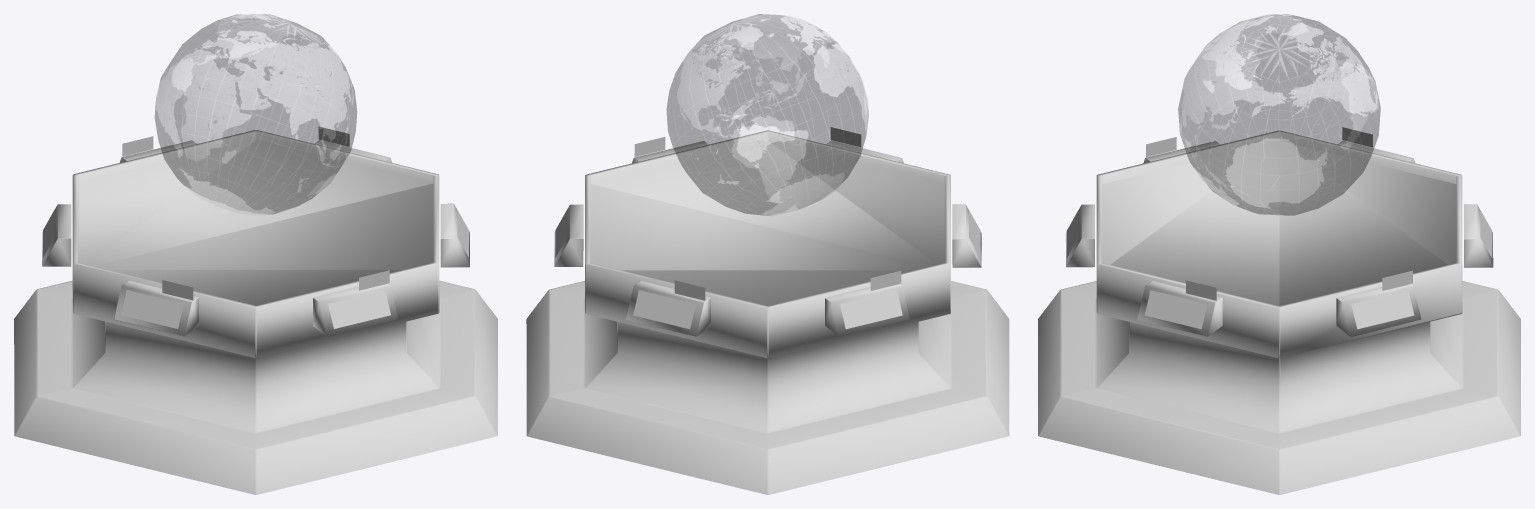
Rendered from Holo_Table.fbx.
3 renders of one model, left to right at view 1: azimuth 30°, elevation 25°; view 2: azimuth 150°, elevation 25°; view 3: azimuth 270°, elevation 25°, orthographic.
Visible parts, largest first — view 1: Table, Hologram; view 2: Table, Hologram; view 3: Table, Hologram.
Boxes of the visible parts, bbox=[...] form: Table: bbox=[14, 126, 497, 494]; Hologram: bbox=[155, 14, 356, 215]; Table: bbox=[526, 127, 1009, 494]; Hologram: bbox=[666, 14, 868, 215]; Table: bbox=[1038, 127, 1520, 494]; Hologram: bbox=[1178, 14, 1380, 215].
Bounding box in the file's own units: 287 × 202 × 249.
Materials: 2 (1 with a texture image).
